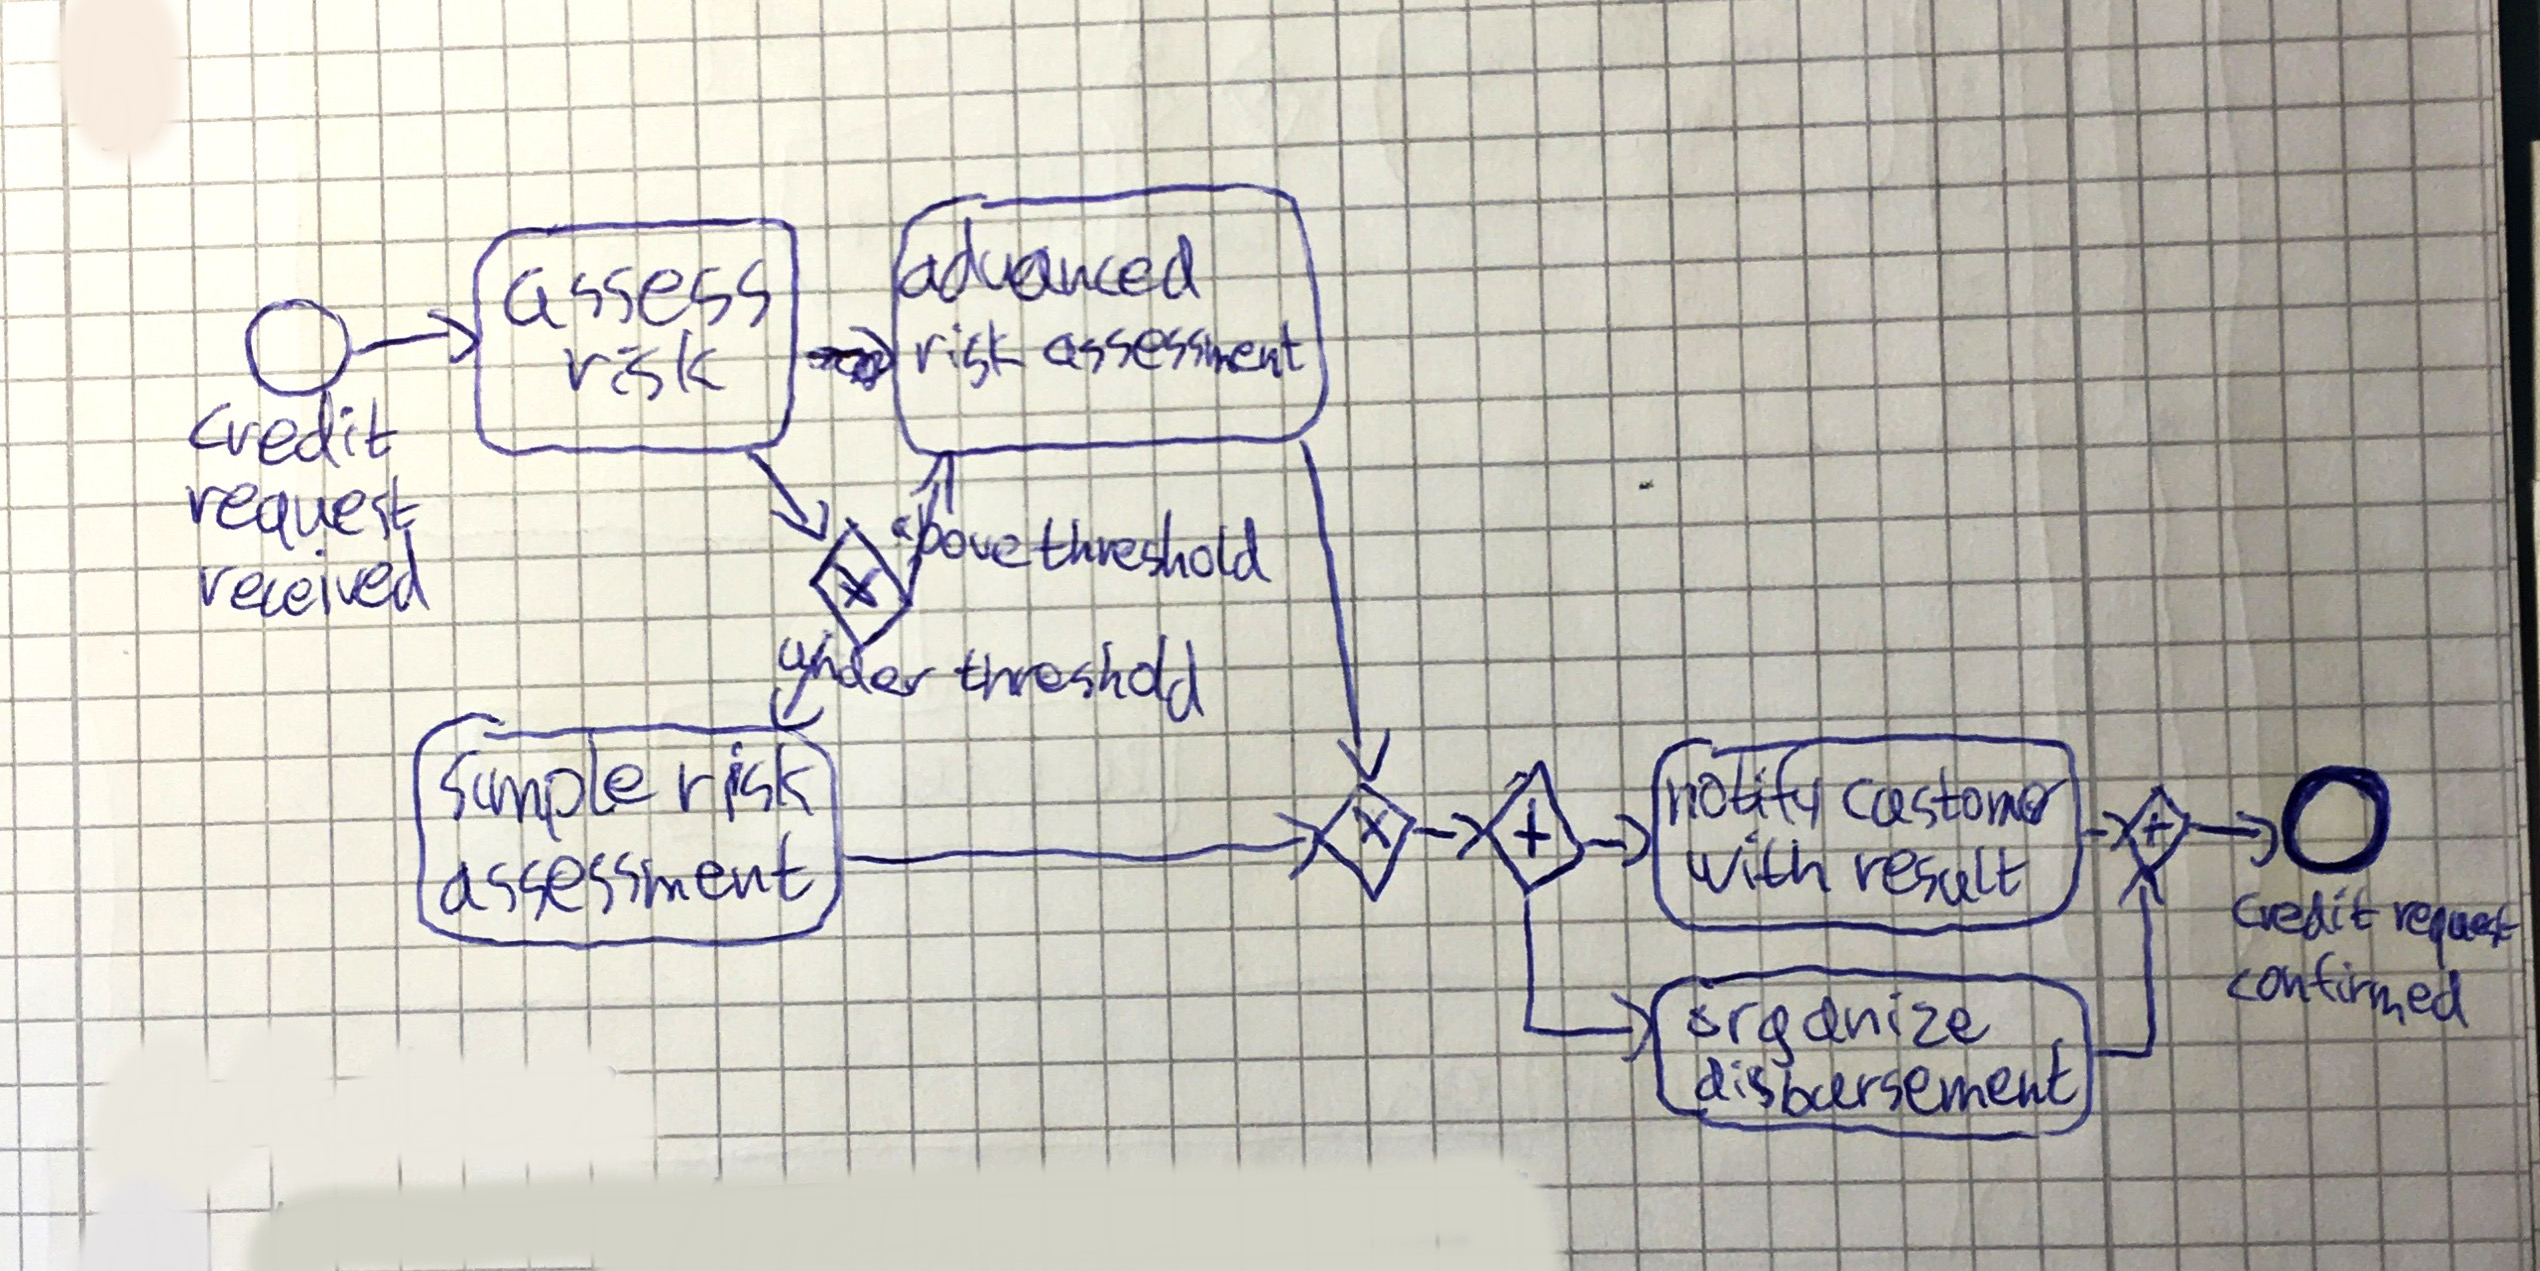above: (883, 499, 1037, 576)
advanced: (892, 211, 1208, 310)
assess: (498, 253, 776, 336)
assessment: (431, 824, 823, 929), (1036, 311, 1310, 386)
confirmed: (2221, 944, 2475, 1036)
credit: (178, 384, 408, 473), (2226, 880, 2388, 950)
customer: (1835, 759, 2076, 835)
disbursement: (1686, 1033, 2085, 1125)
notify: (1660, 738, 1832, 837)
organize: (1679, 987, 1999, 1075)
received: (193, 524, 438, 626)
request: (175, 469, 428, 558), (2388, 893, 2529, 976)
result: (1845, 840, 2036, 913)
rick: (673, 734, 820, 832)
risk: (556, 323, 734, 409), (906, 311, 1036, 396)
sample: (433, 725, 666, 849)
threshold: (947, 627, 1211, 731), (1034, 503, 1279, 588)
under: (772, 629, 942, 705)
with: (1678, 825, 1838, 901)
